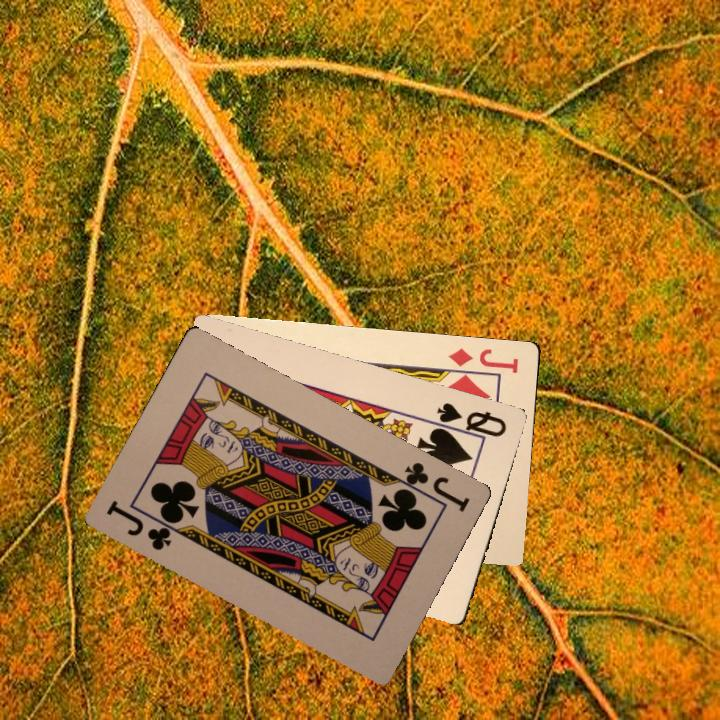Jc: (392, 457, 473, 515), (102, 496, 183, 553)
Jd: (446, 344, 521, 376)
Qs: (427, 398, 509, 443)
